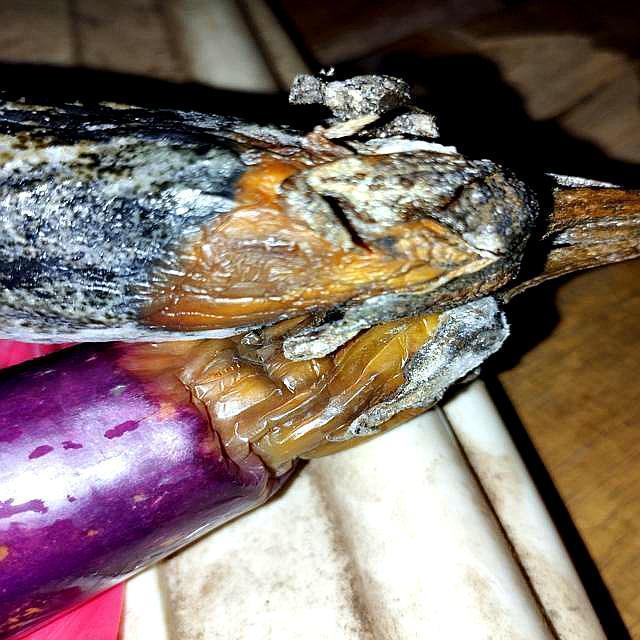Biodegradable: (1, 91, 529, 627)
